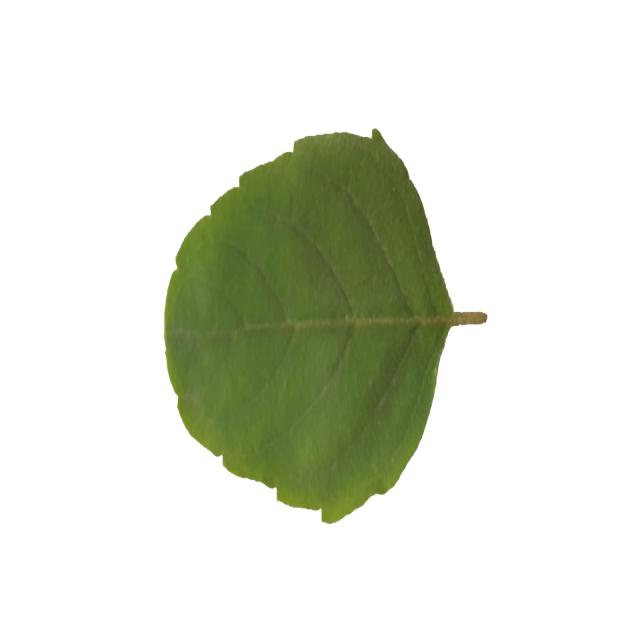tulsi: (166, 129, 486, 522)
